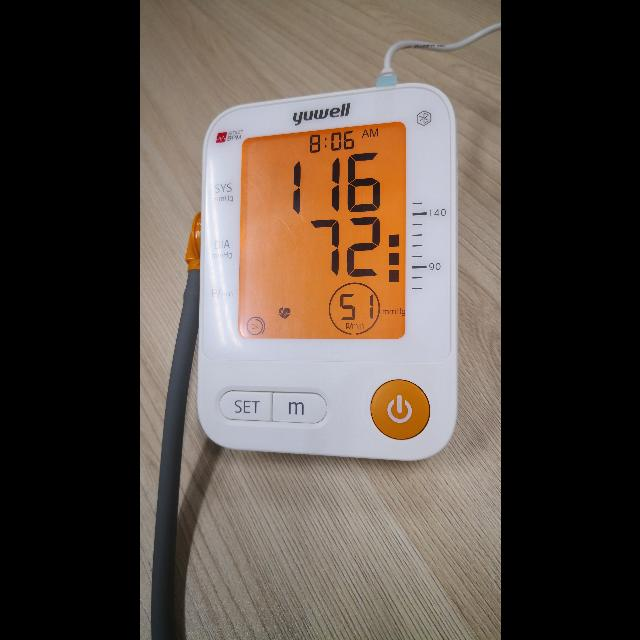Blood-Pressure-Monitor: (197, 82, 458, 460)
